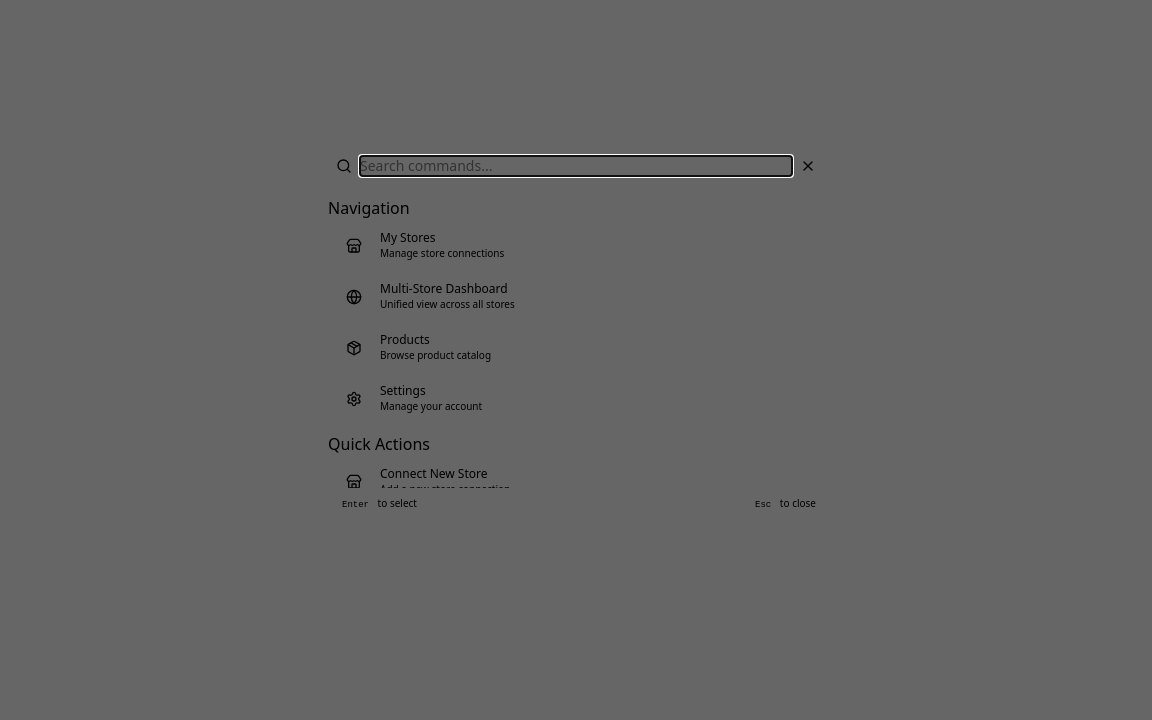
Test: CommandPalette › shows an honest no-results message
Type "zzzzzzz" into the dropdown with placeholder "Search commands..." at (576, 166), box [360,156,792,176]
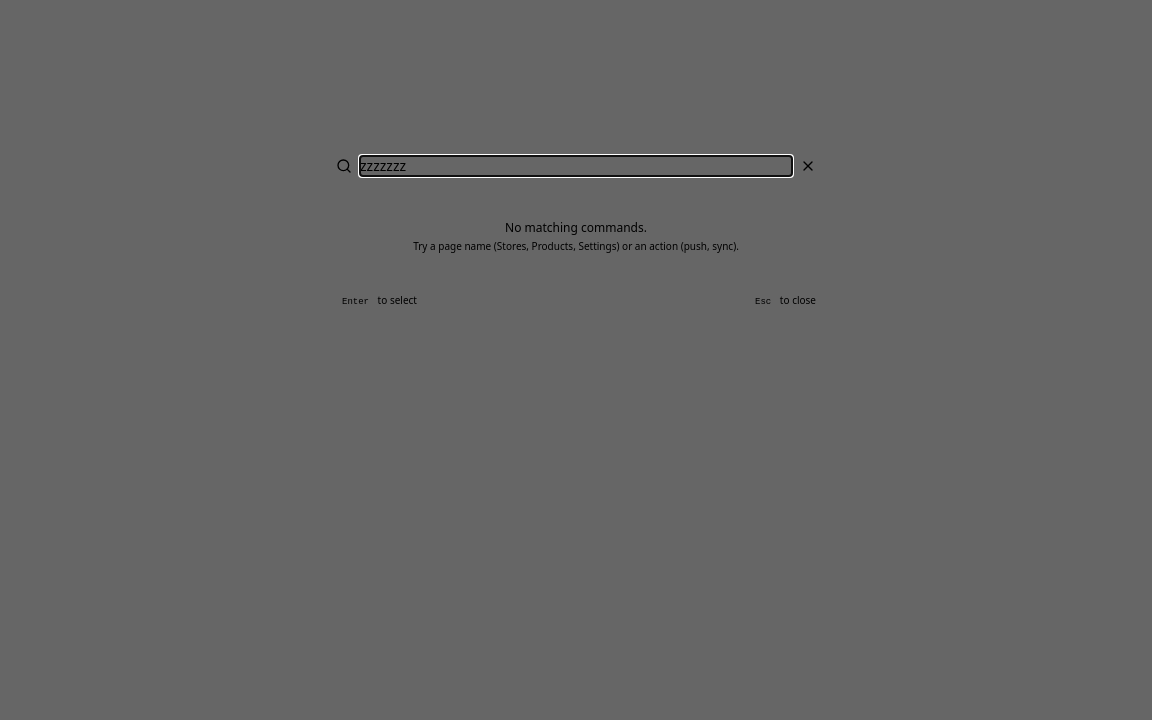
Expected: the text "No matching commands." is shown, [505,219,647,236]
